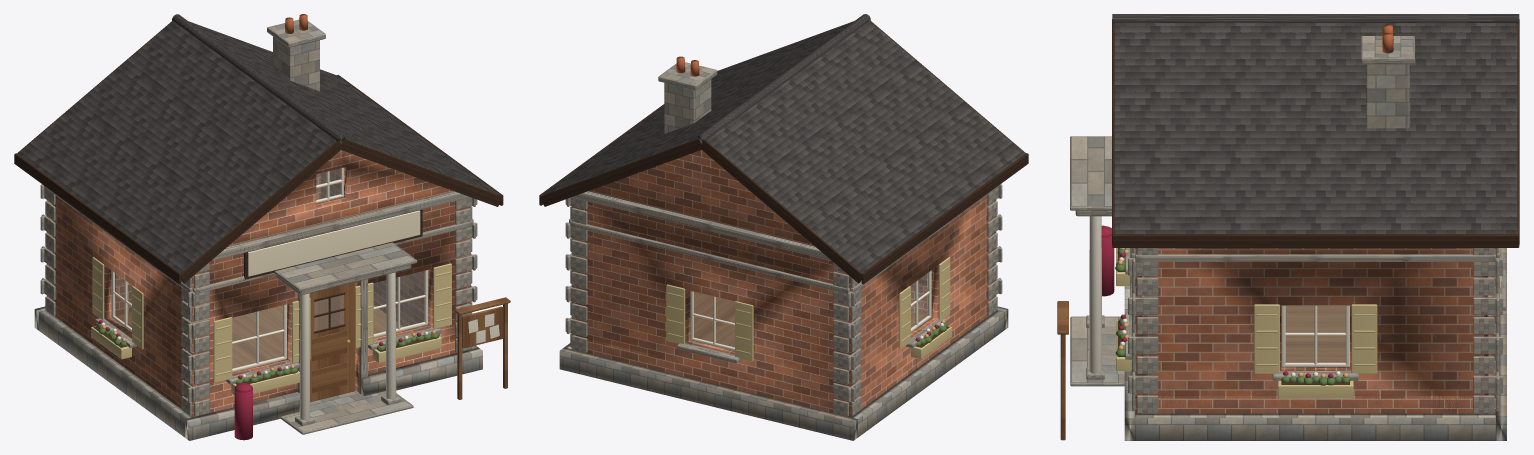
Rendered from building_office.glb.
3 renders of one model, left to right at view 1: azimuth 30°, elevation 25°; view 2: azimuth 150°, elevation 25°; view 3: azimuth 270°, elevation 25°, orthographic. The views are drawn at different scales.
Visible parts, largest first — view 1: roof, wall_front, wall_left, base, door, wall_left_low, wall_right, wall_front_low, wall_back, wall_right_low; view 2: roof, wall_back, wall_left, wall_back_low, wall_left_low, base, wall_front; view 3: roof, wall_right, wall_front, base, wall_right_low, wall_back.
Boxes of the visible parts, x1,y1,x2,y2 form: roof: [14, 14, 503, 284]; wall_front: [185, 150, 482, 440]; wall_left: [39, 184, 195, 437]; base: [116, 297, 510, 440]; door: [309, 282, 355, 402]; wall_left_low: [39, 299, 192, 426]; wall_right: [320, 168, 478, 349]; wall_front_low: [185, 339, 482, 440]; wall_back: [34, 173, 320, 330]; wall_right_low: [373, 281, 476, 347]; roof: [539, 14, 1028, 284]; wall_back: [559, 150, 857, 440]; wall_left: [847, 185, 1003, 437]; wall_back_low: [559, 339, 857, 439]; wall_left_low: [851, 300, 1003, 415]; base: [694, 292, 926, 347]; wall_front: [910, 184, 1008, 330]; roof: [1112, 14, 1519, 247]; wall_right: [1128, 248, 1503, 440]; wall_front: [1070, 136, 1149, 440]; base: [1057, 225, 1345, 440]; wall_right_low: [1137, 396, 1493, 413]; wall_back: [1481, 248, 1506, 440].
Size of the model in its own units: 6.41 by 5.57 by 6.4.
20 materials, 6 textured.
